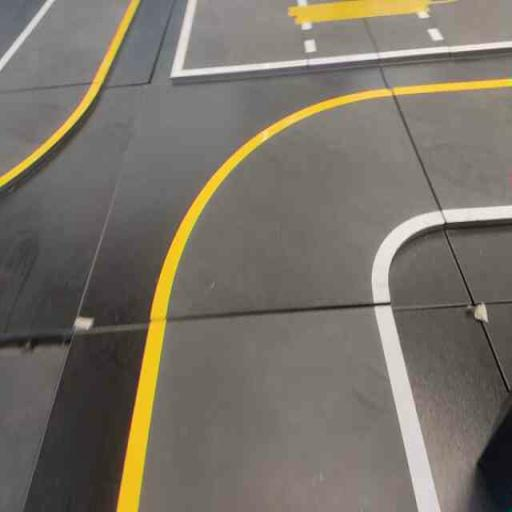right: (137, 69, 475, 322)
